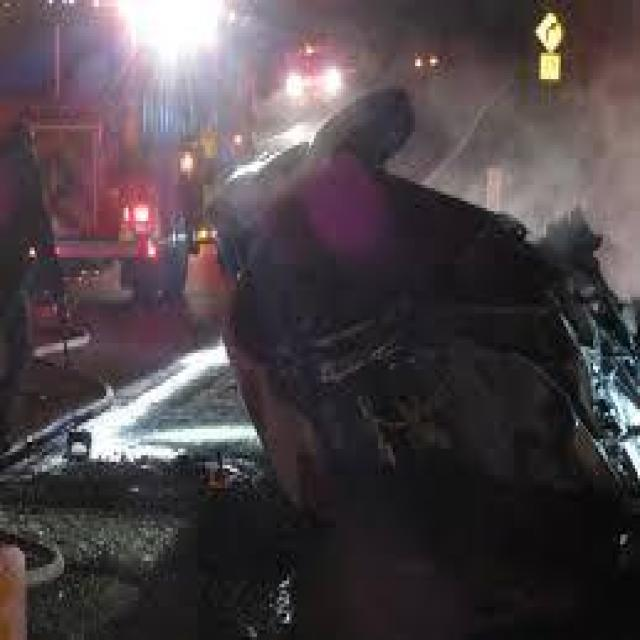other: (86, 0, 235, 79), (279, 51, 351, 100)
